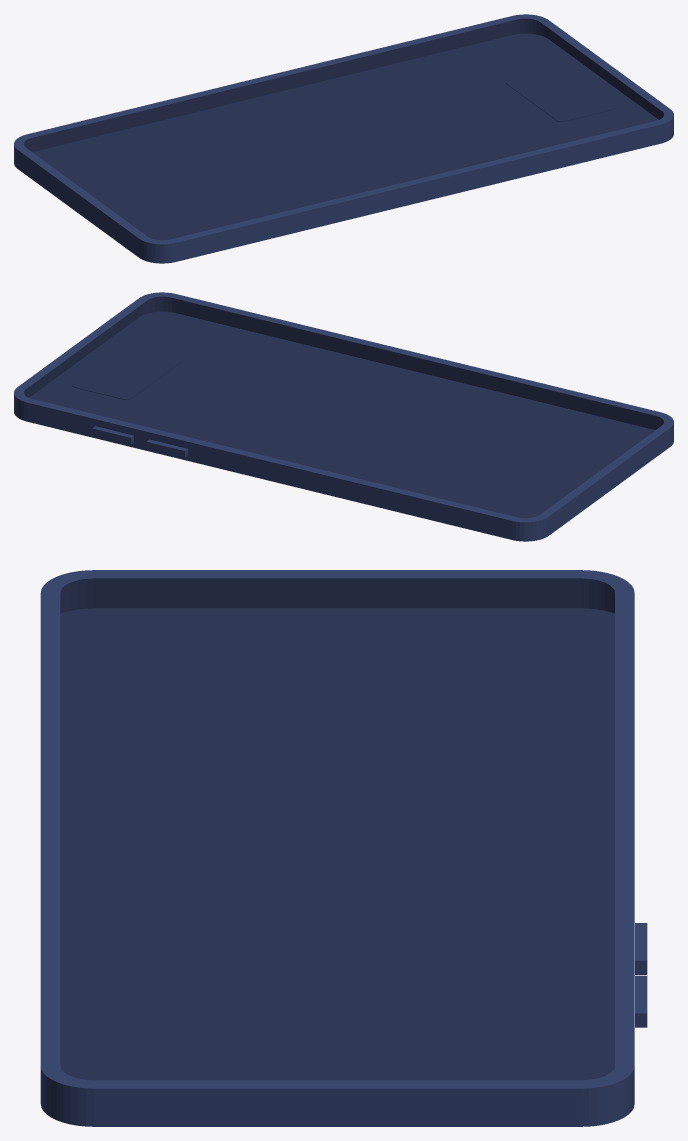
Rendered from phone.glb.
3 views of the same model, one above another, from view 1: azimuth 30°, elevation 25°; view 2: azimuth 150°, elevation 25°; view 3: azimuth 270°, elevation 25° (orthographic). The views are drawn at different scales.
Visible parts, largest first — view 1: PHONE; view 2: PHONE; view 3: PHONE.
Part boxes in pixels (bbox=[...]): PHONE: bbox=[14, 14, 673, 263]; PHONE: bbox=[14, 292, 673, 541]; PHONE: bbox=[40, 570, 647, 1126].
Size of the model in its own units: 4.13 by 0.2075 by 2.04.
